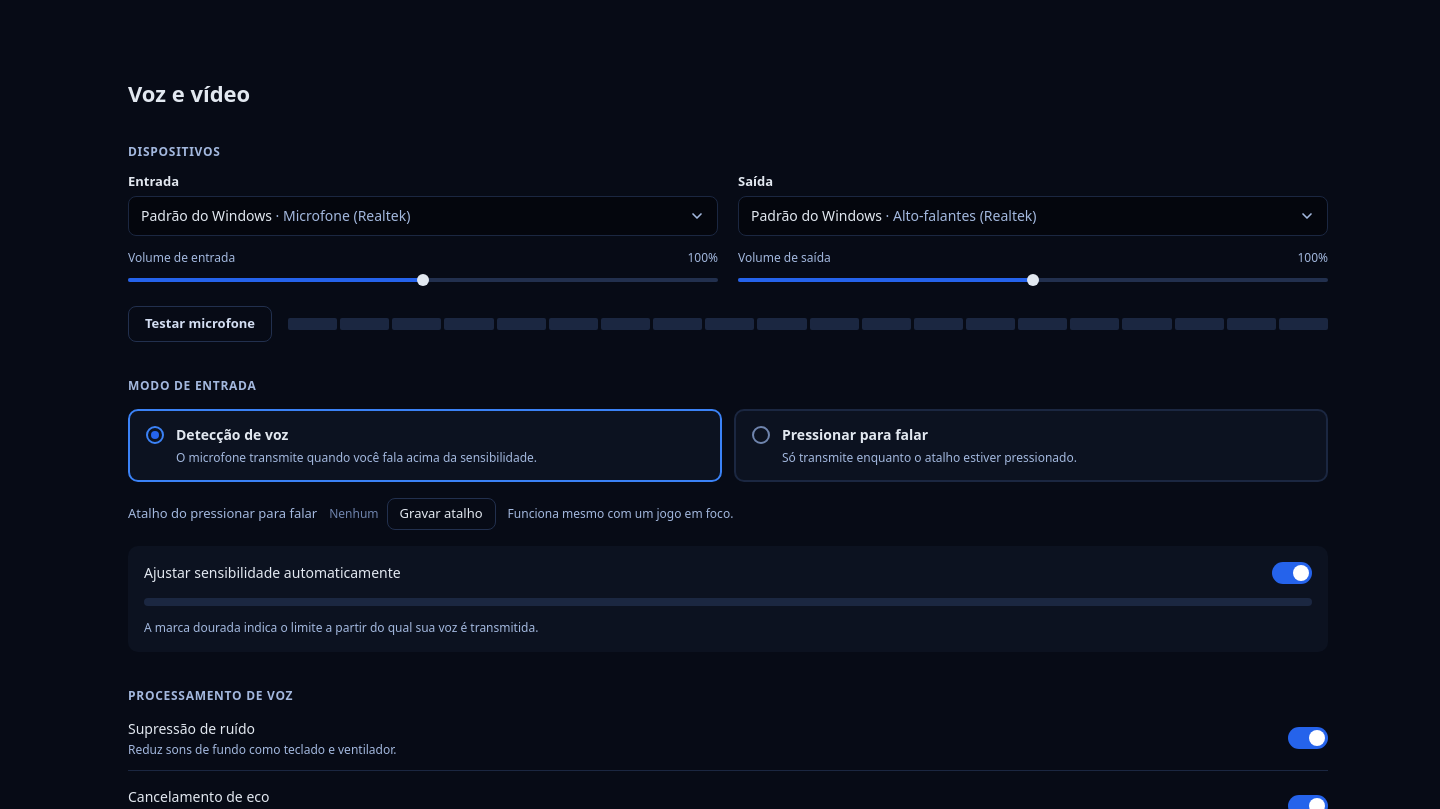
Scenario: Voz e vídeo › escolher um microfone guarda a escolha; voltar ao padrão também
Later steps or results of the test are not shown.
Click the dropdown named "Entrada": (206, 215) [128,196,718,236]
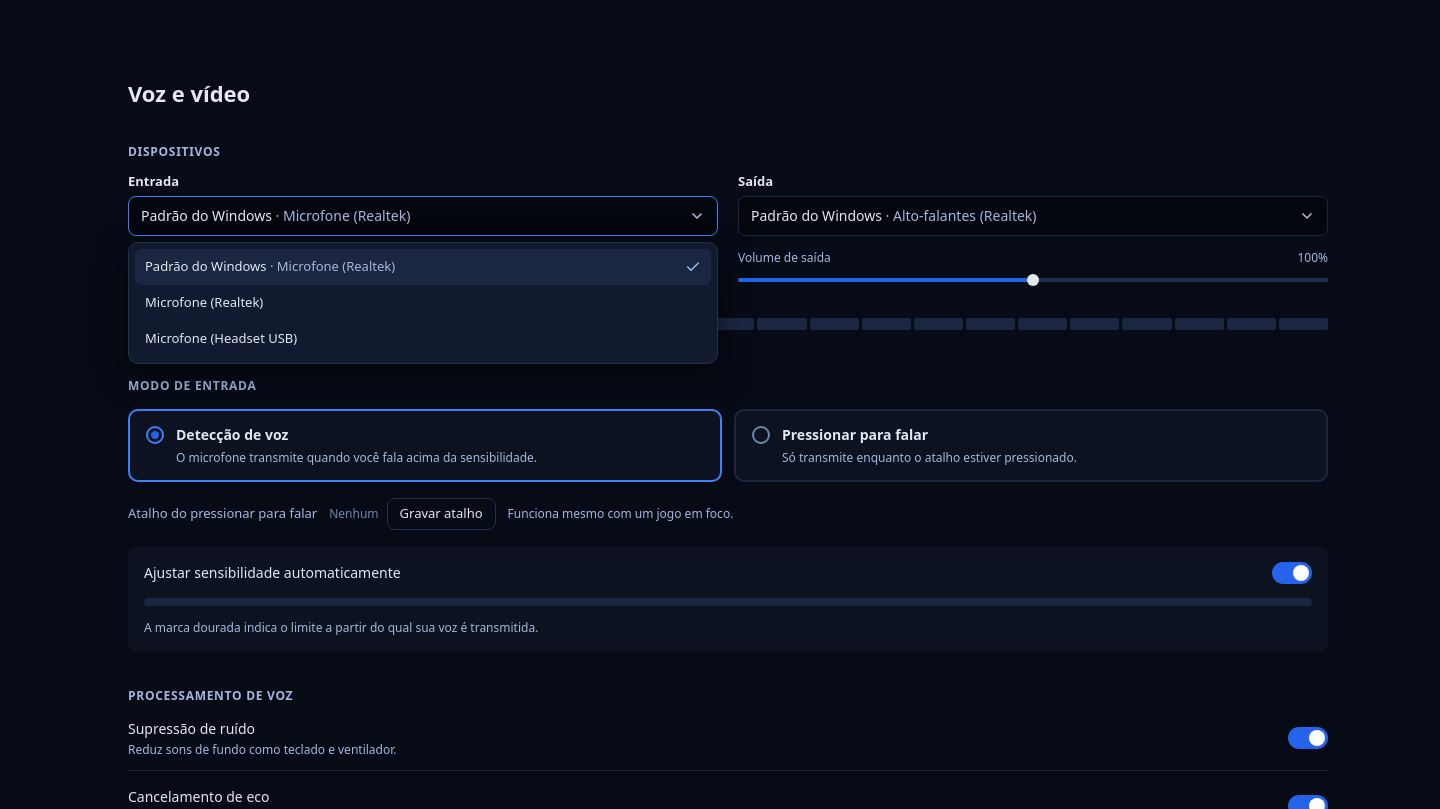
Click the option "Microfone (Headset USB)": (221, 338) [145,329,297,347]
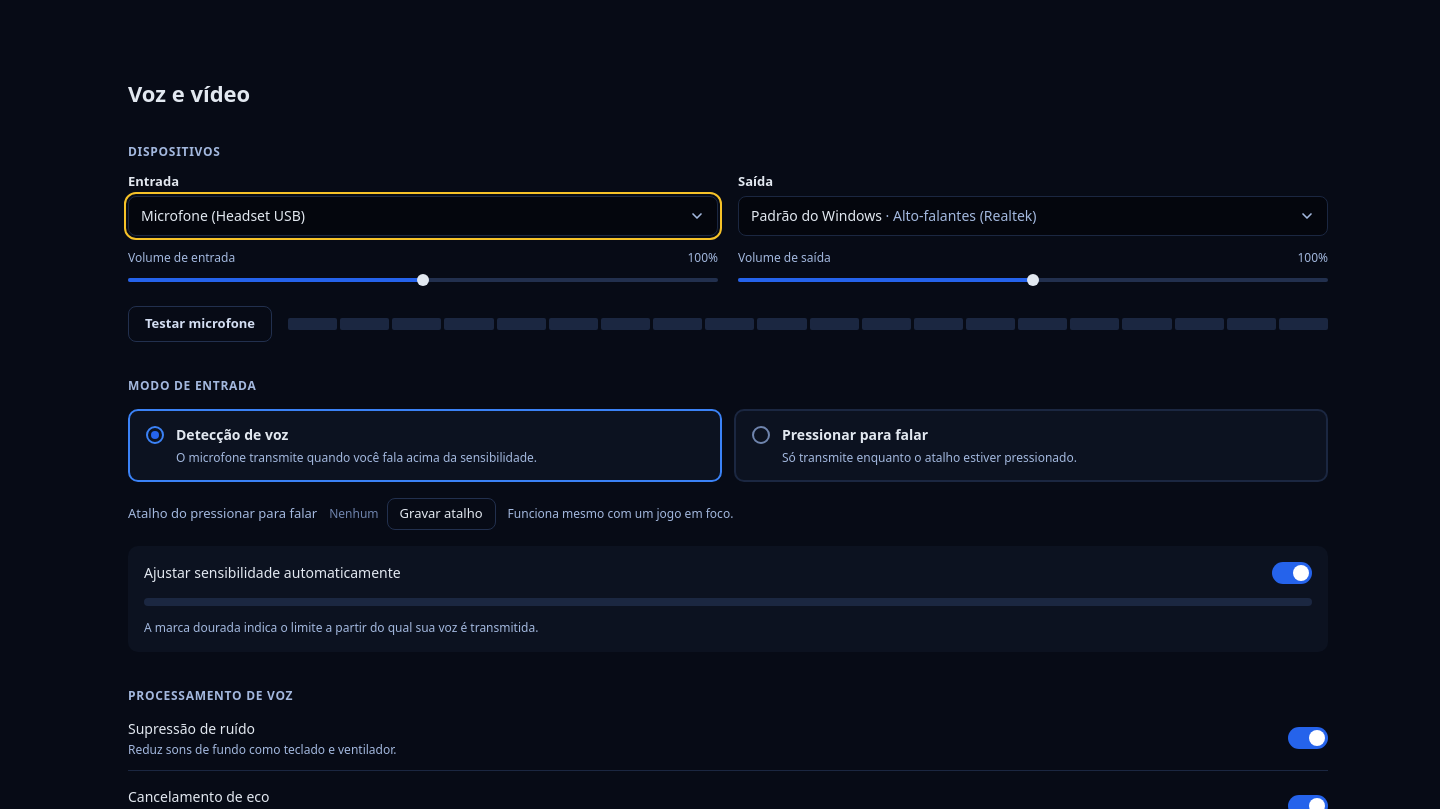
Now the dropdown named "Entrada" reads "Microfone (Headset USB)", box [128,196,718,236]
